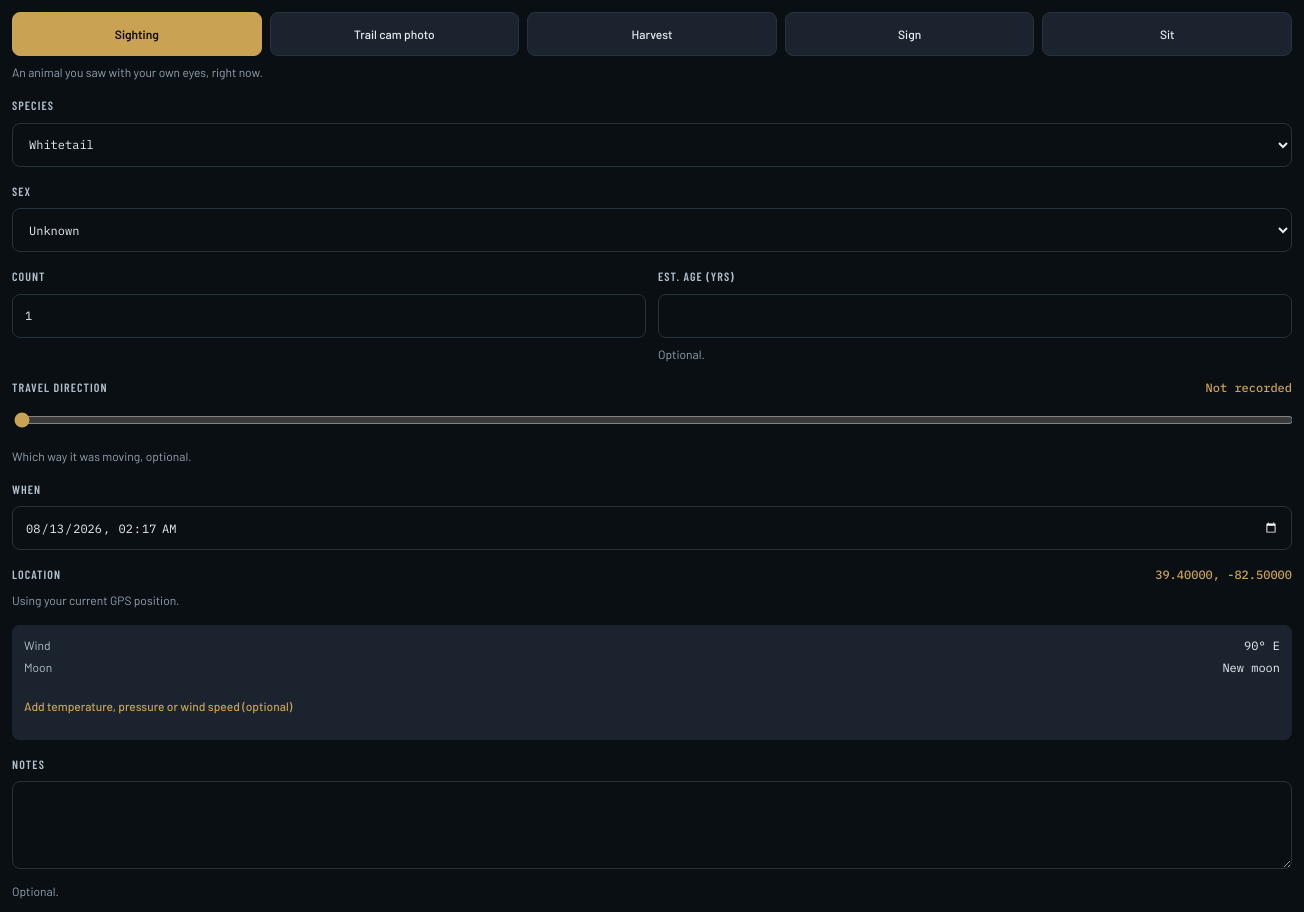
Test case: ObservationForm — kind-aware fields (R5) › Harvest shows species but no travel-direction dial
The width and height of the screenshot is (1304, 912).
Click the button with class "obs-kind-btn" showing "Harvest": (652, 34) [527,12,777,56]
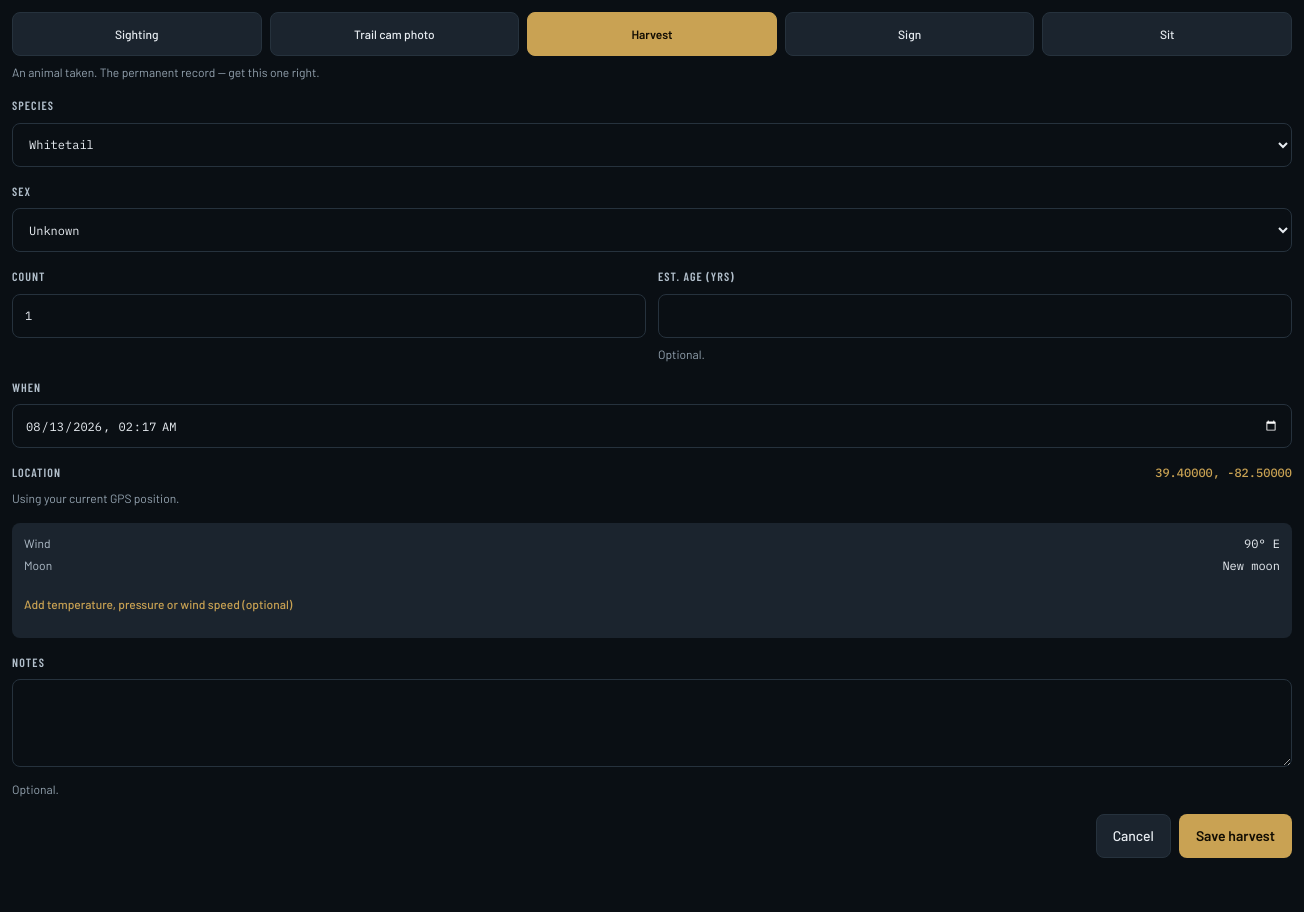
Check: the dropdown with id "obs-species" is shown, box [12,123,1292,167]
Check: the label with id "obs-travel-heading" is gone
